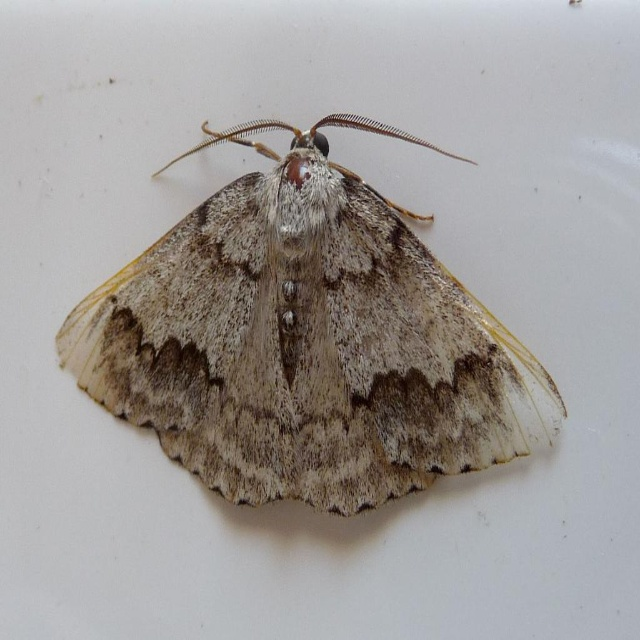Moths and butterflies: (53, 111, 570, 522)
